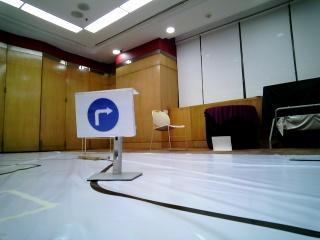right: (77, 96, 126, 133)
